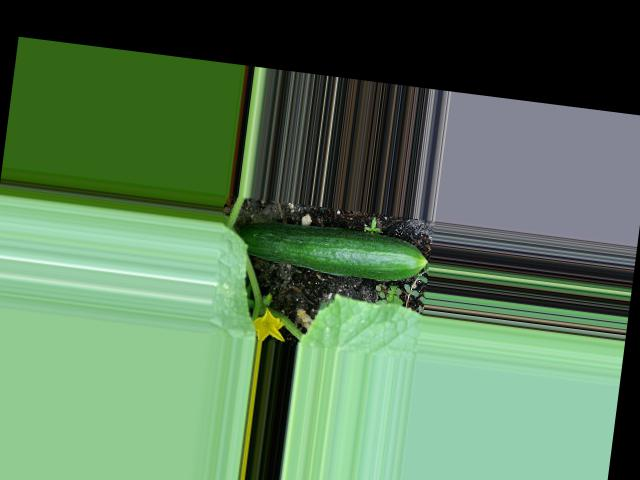cucumber: (235, 215, 431, 286)
